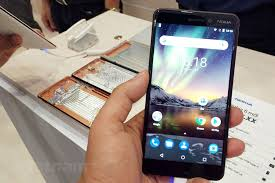nokia: (137, 6, 239, 183)
